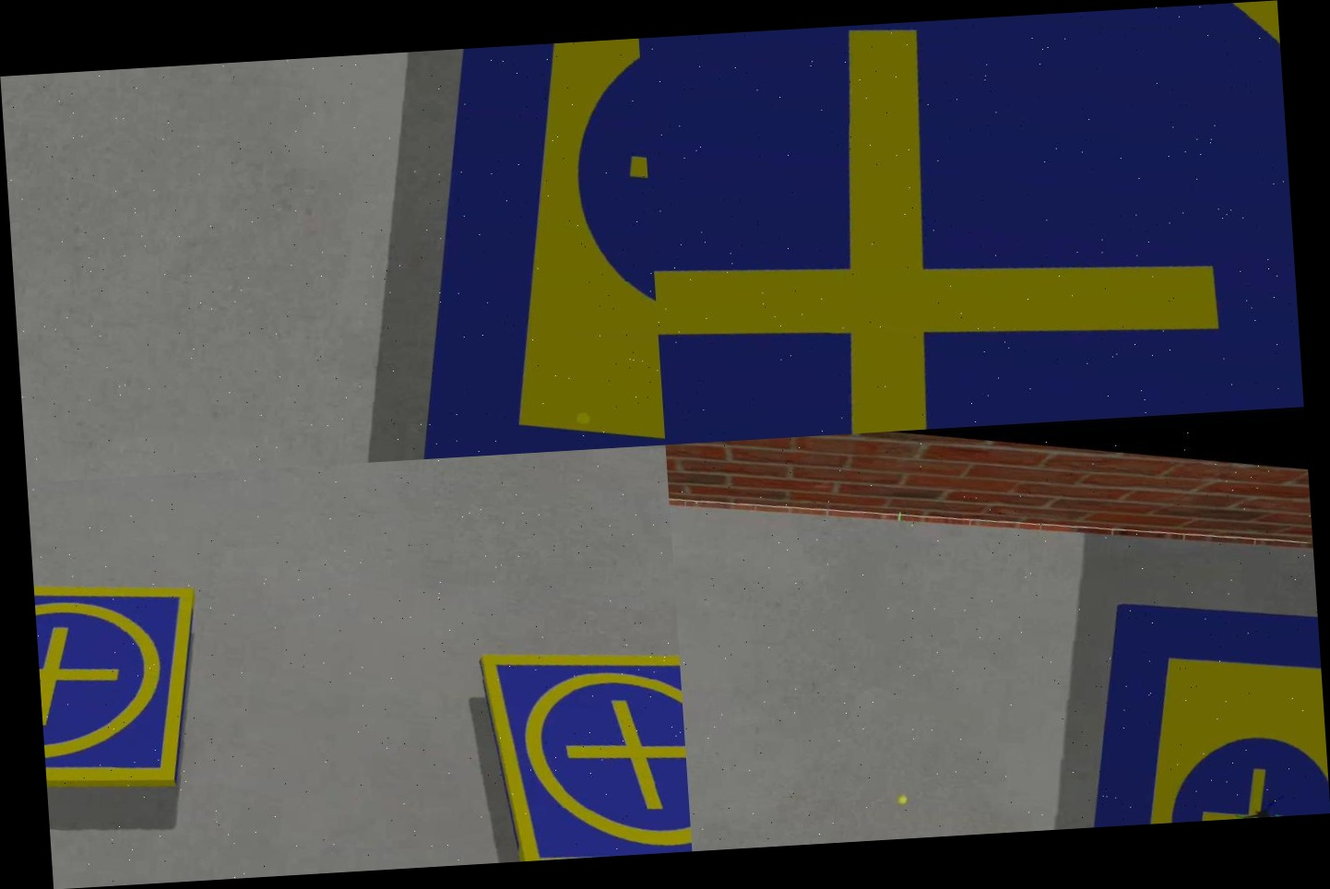large_base: (639, 0, 1303, 444), (390, 39, 666, 459), (1045, 586, 1330, 829)
small_base: (443, 623, 692, 864), (31, 542, 216, 820)
